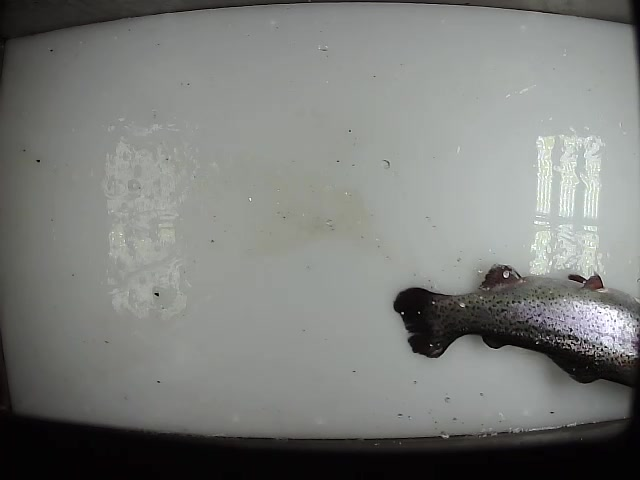fish: (393, 262, 640, 392)
